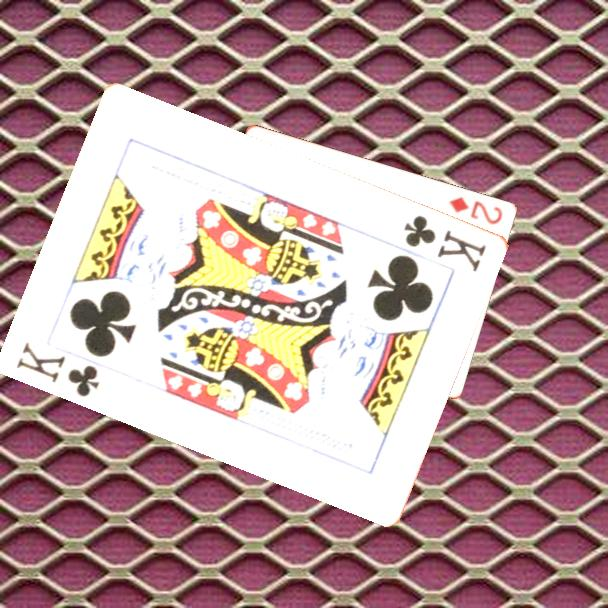c13: (401, 211, 490, 274), (13, 338, 103, 400)
d02: (445, 194, 505, 228)
